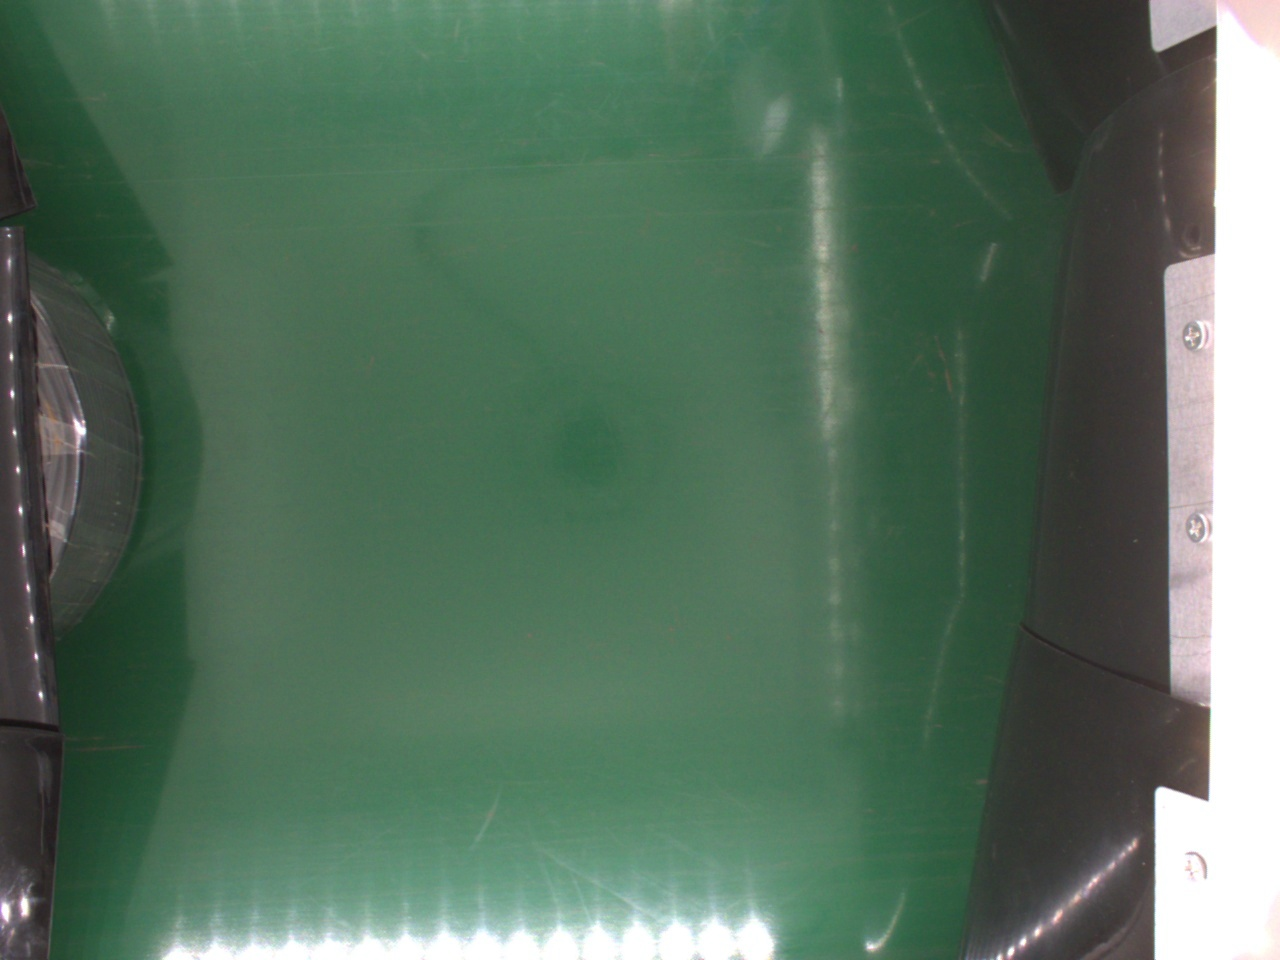black: (25, 259, 151, 624)
